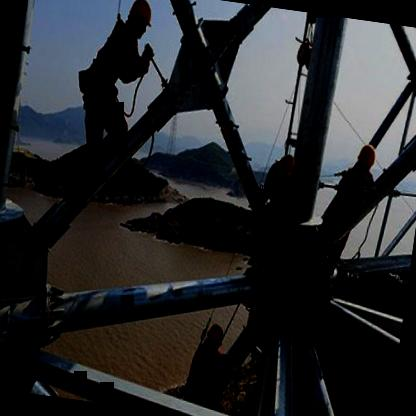helmet: (119, 0, 156, 44), (352, 138, 378, 176), (202, 320, 226, 353), (275, 150, 297, 185)
